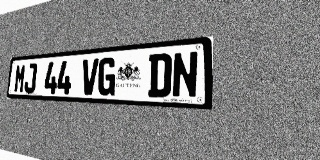4: (57, 60, 73, 94), (44, 61, 59, 94)
D: (147, 53, 172, 98)
G: (97, 57, 117, 96)
J: (24, 63, 37, 93)
M: (14, 64, 26, 93)
N: (172, 51, 198, 98)
V: (81, 58, 99, 95)
